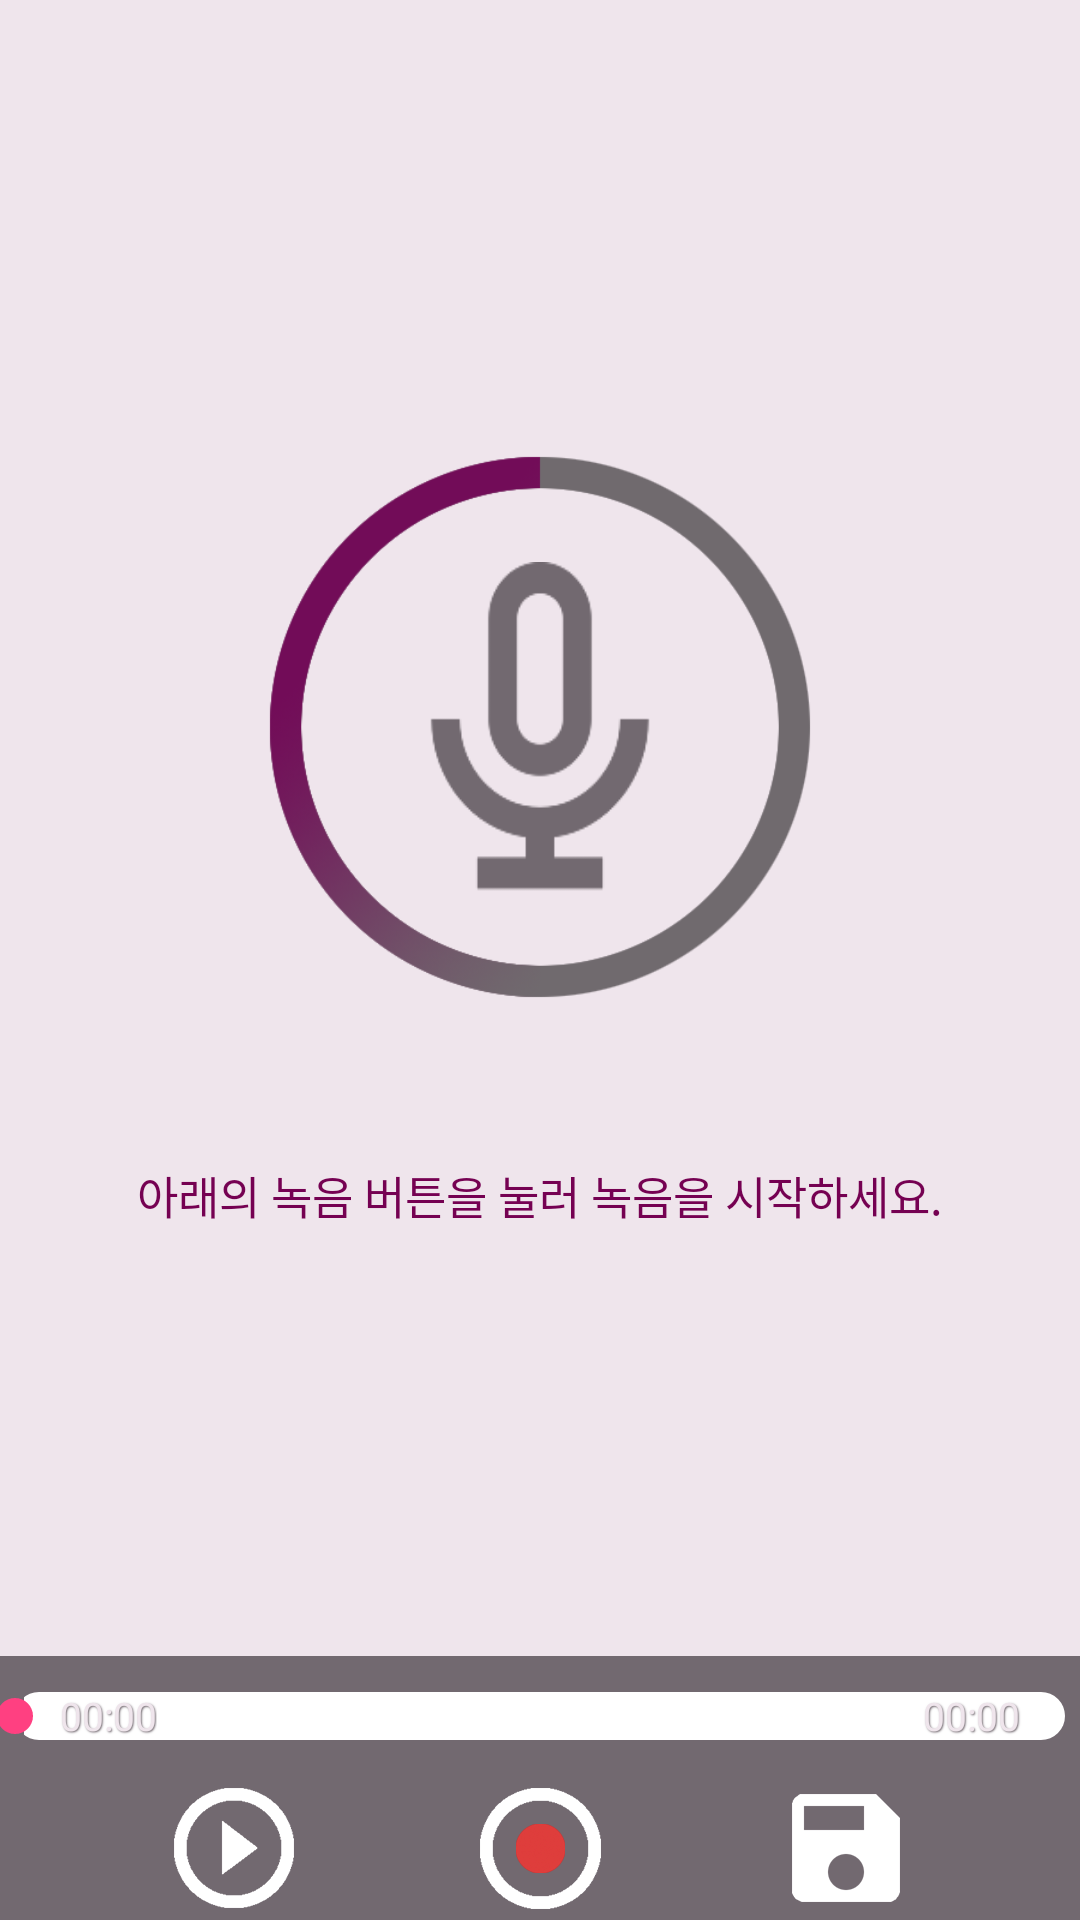

Screen size 1080px x 1920px. Icon name, then its center in pixels as (x=x, y=y):
play: (x=234, y=1848)
record: (x=540, y=1848)
save: (x=846, y=1848)
